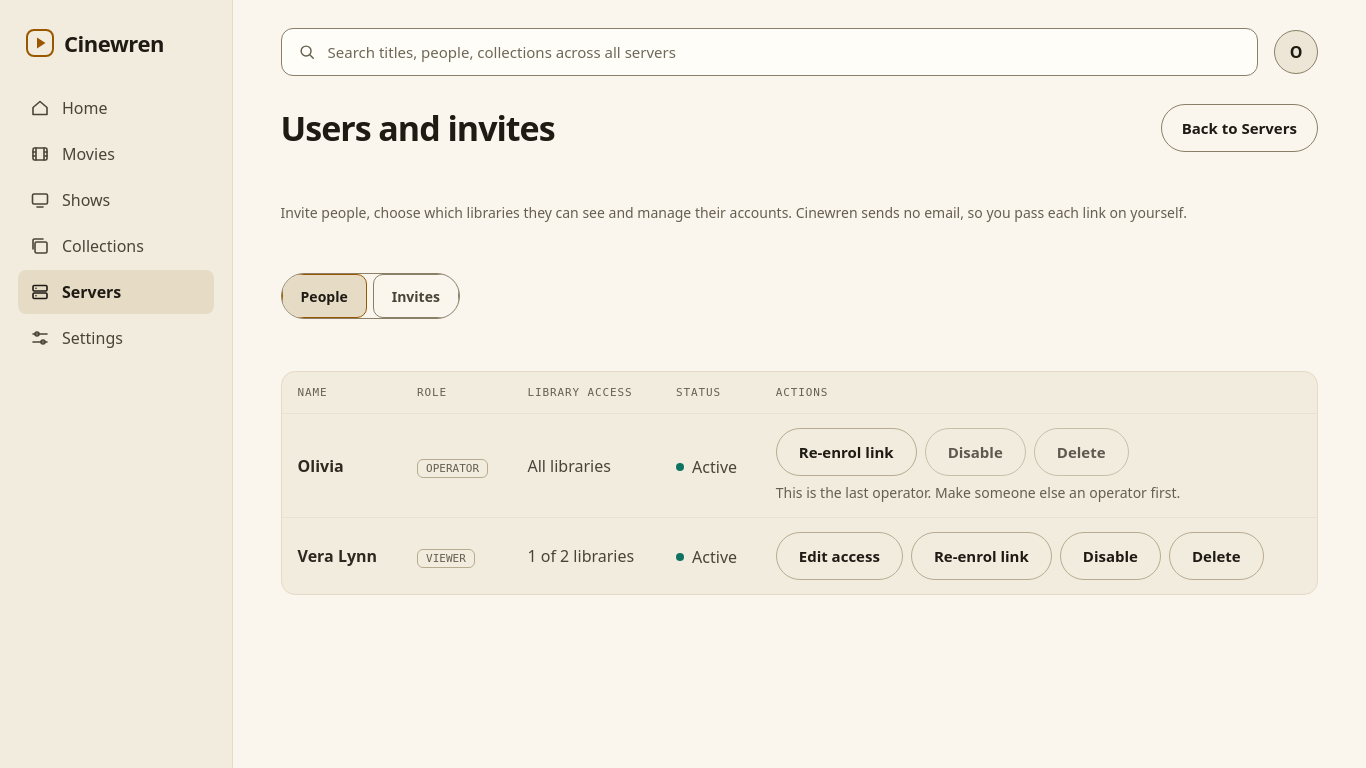
Test case: revokes an open invite
What coordinates should you click on to do the following:
click the radio button labelled "Invites"
I would click on:
 (416, 296)
Its box is [373,274,459,318].
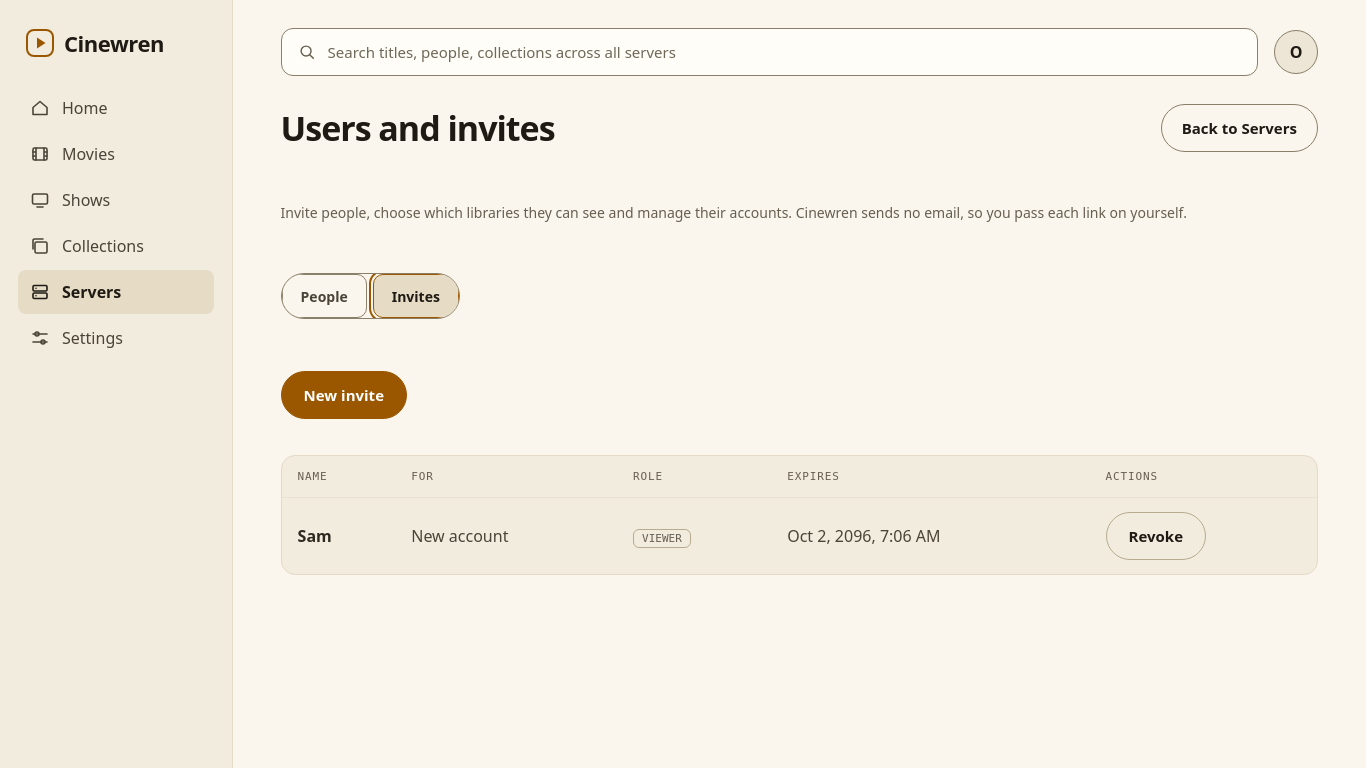
What coordinates should you click on to do the following:
click the button with aria-label "Revoke the invite for Sam"
I would click on:
 (1156, 536)
Its box is [1106,512,1206,560].
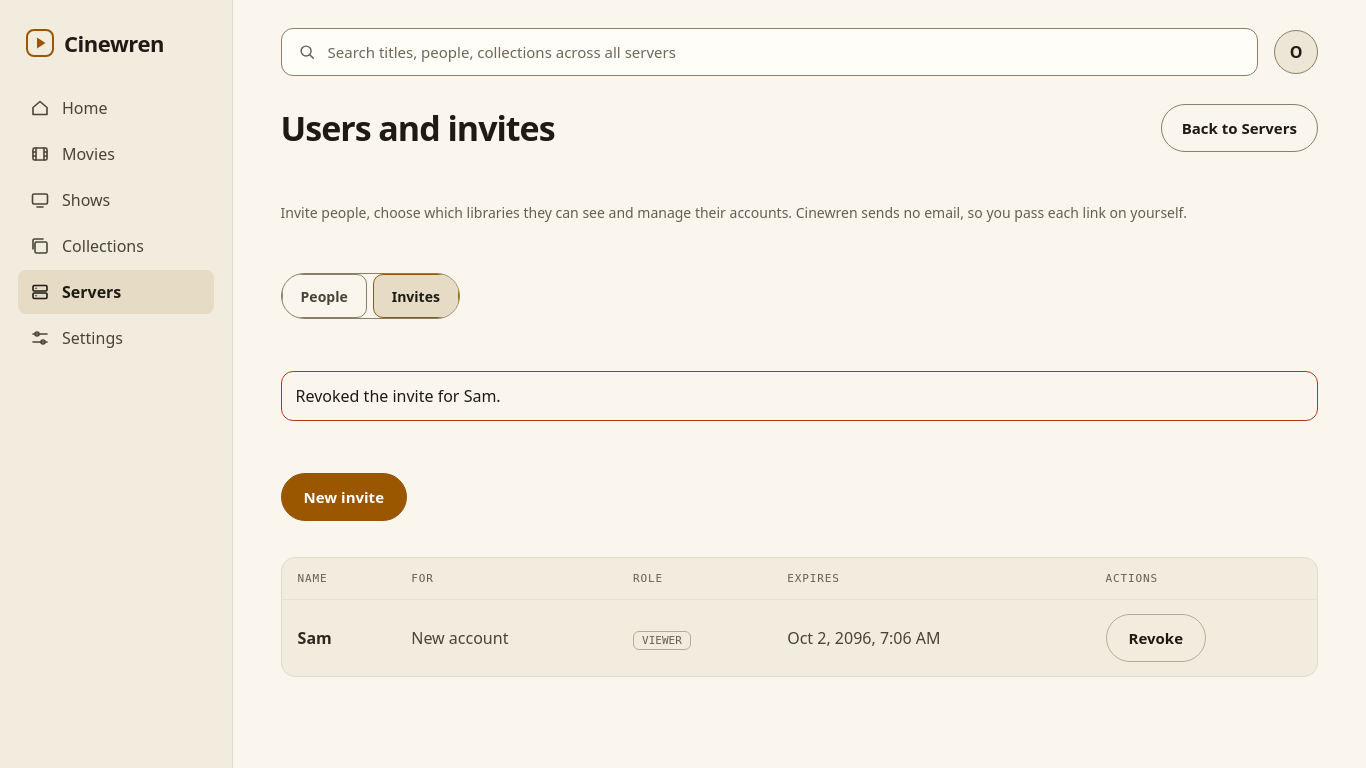
Result: the text "Revoked the invite for Sam." is shown at [296,384,501,408]
